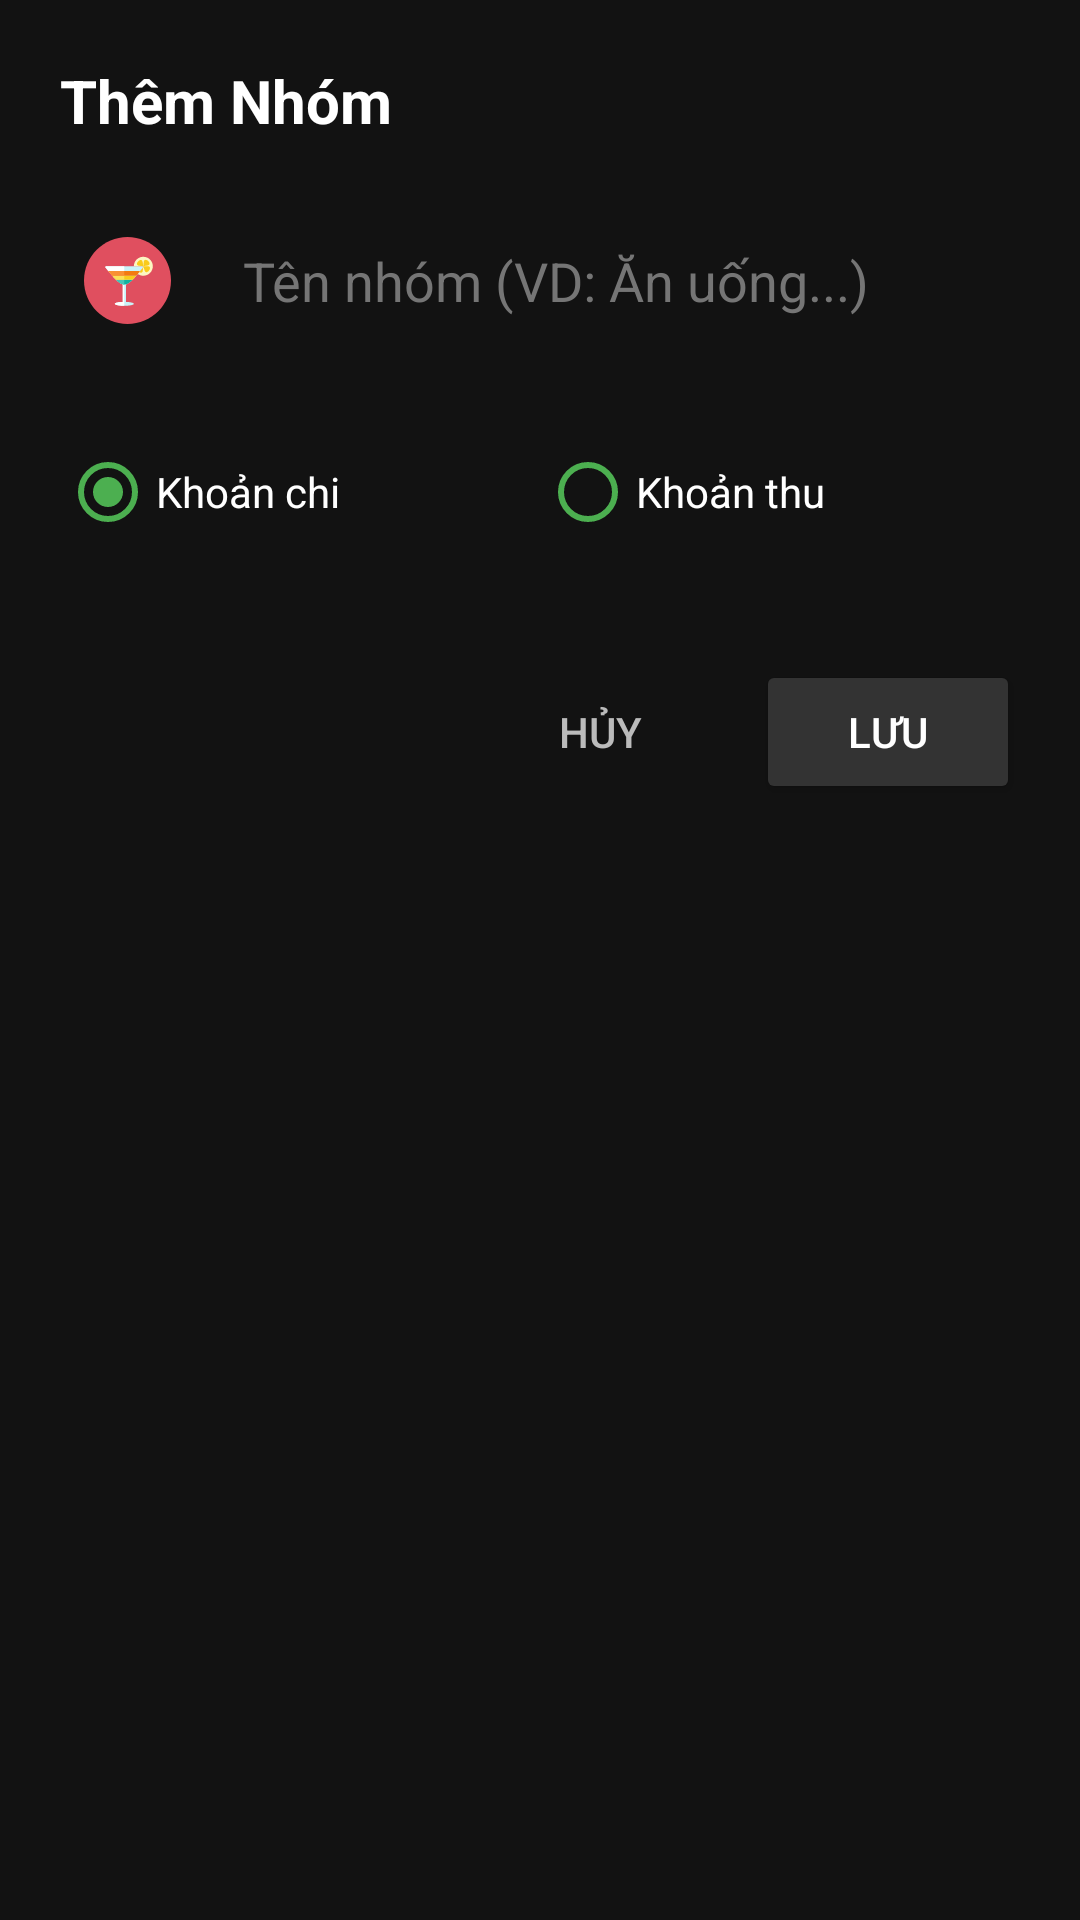

Icons on this 1080*1920 Android screen, each with its box as bbox(x1, y1, x2, y2):
food: bbox(84, 237, 171, 324)
